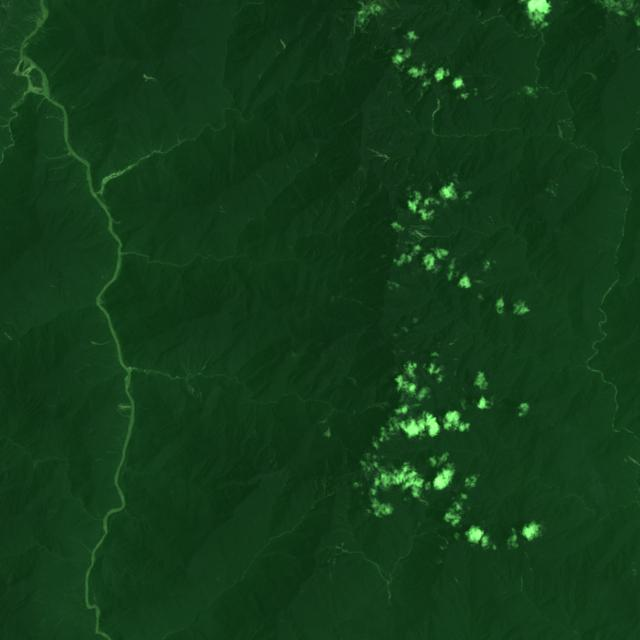landslides: (68, 537, 92, 554), (430, 99, 441, 135), (50, 159, 77, 172), (491, 566, 506, 586), (366, 147, 389, 159), (142, 73, 160, 85), (320, 409, 334, 424), (15, 23, 27, 40), (200, 356, 212, 373), (403, 67, 415, 83), (13, 59, 24, 76), (45, 152, 71, 159), (90, 338, 115, 345), (28, 86, 45, 96), (3, 43, 20, 53), (412, 230, 427, 241), (182, 361, 192, 377), (22, 64, 35, 76), (29, 14, 42, 26), (36, 97, 46, 112), (628, 455, 640, 467), (359, 165, 367, 183), (445, 201, 455, 215), (115, 409, 130, 418), (255, 172, 266, 184), (449, 335, 459, 347), (386, 582, 391, 605), (412, 225, 431, 231), (557, 123, 564, 139), (347, 376, 357, 387), (327, 551, 337, 562), (333, 552, 342, 564), (47, 116, 64, 122)
